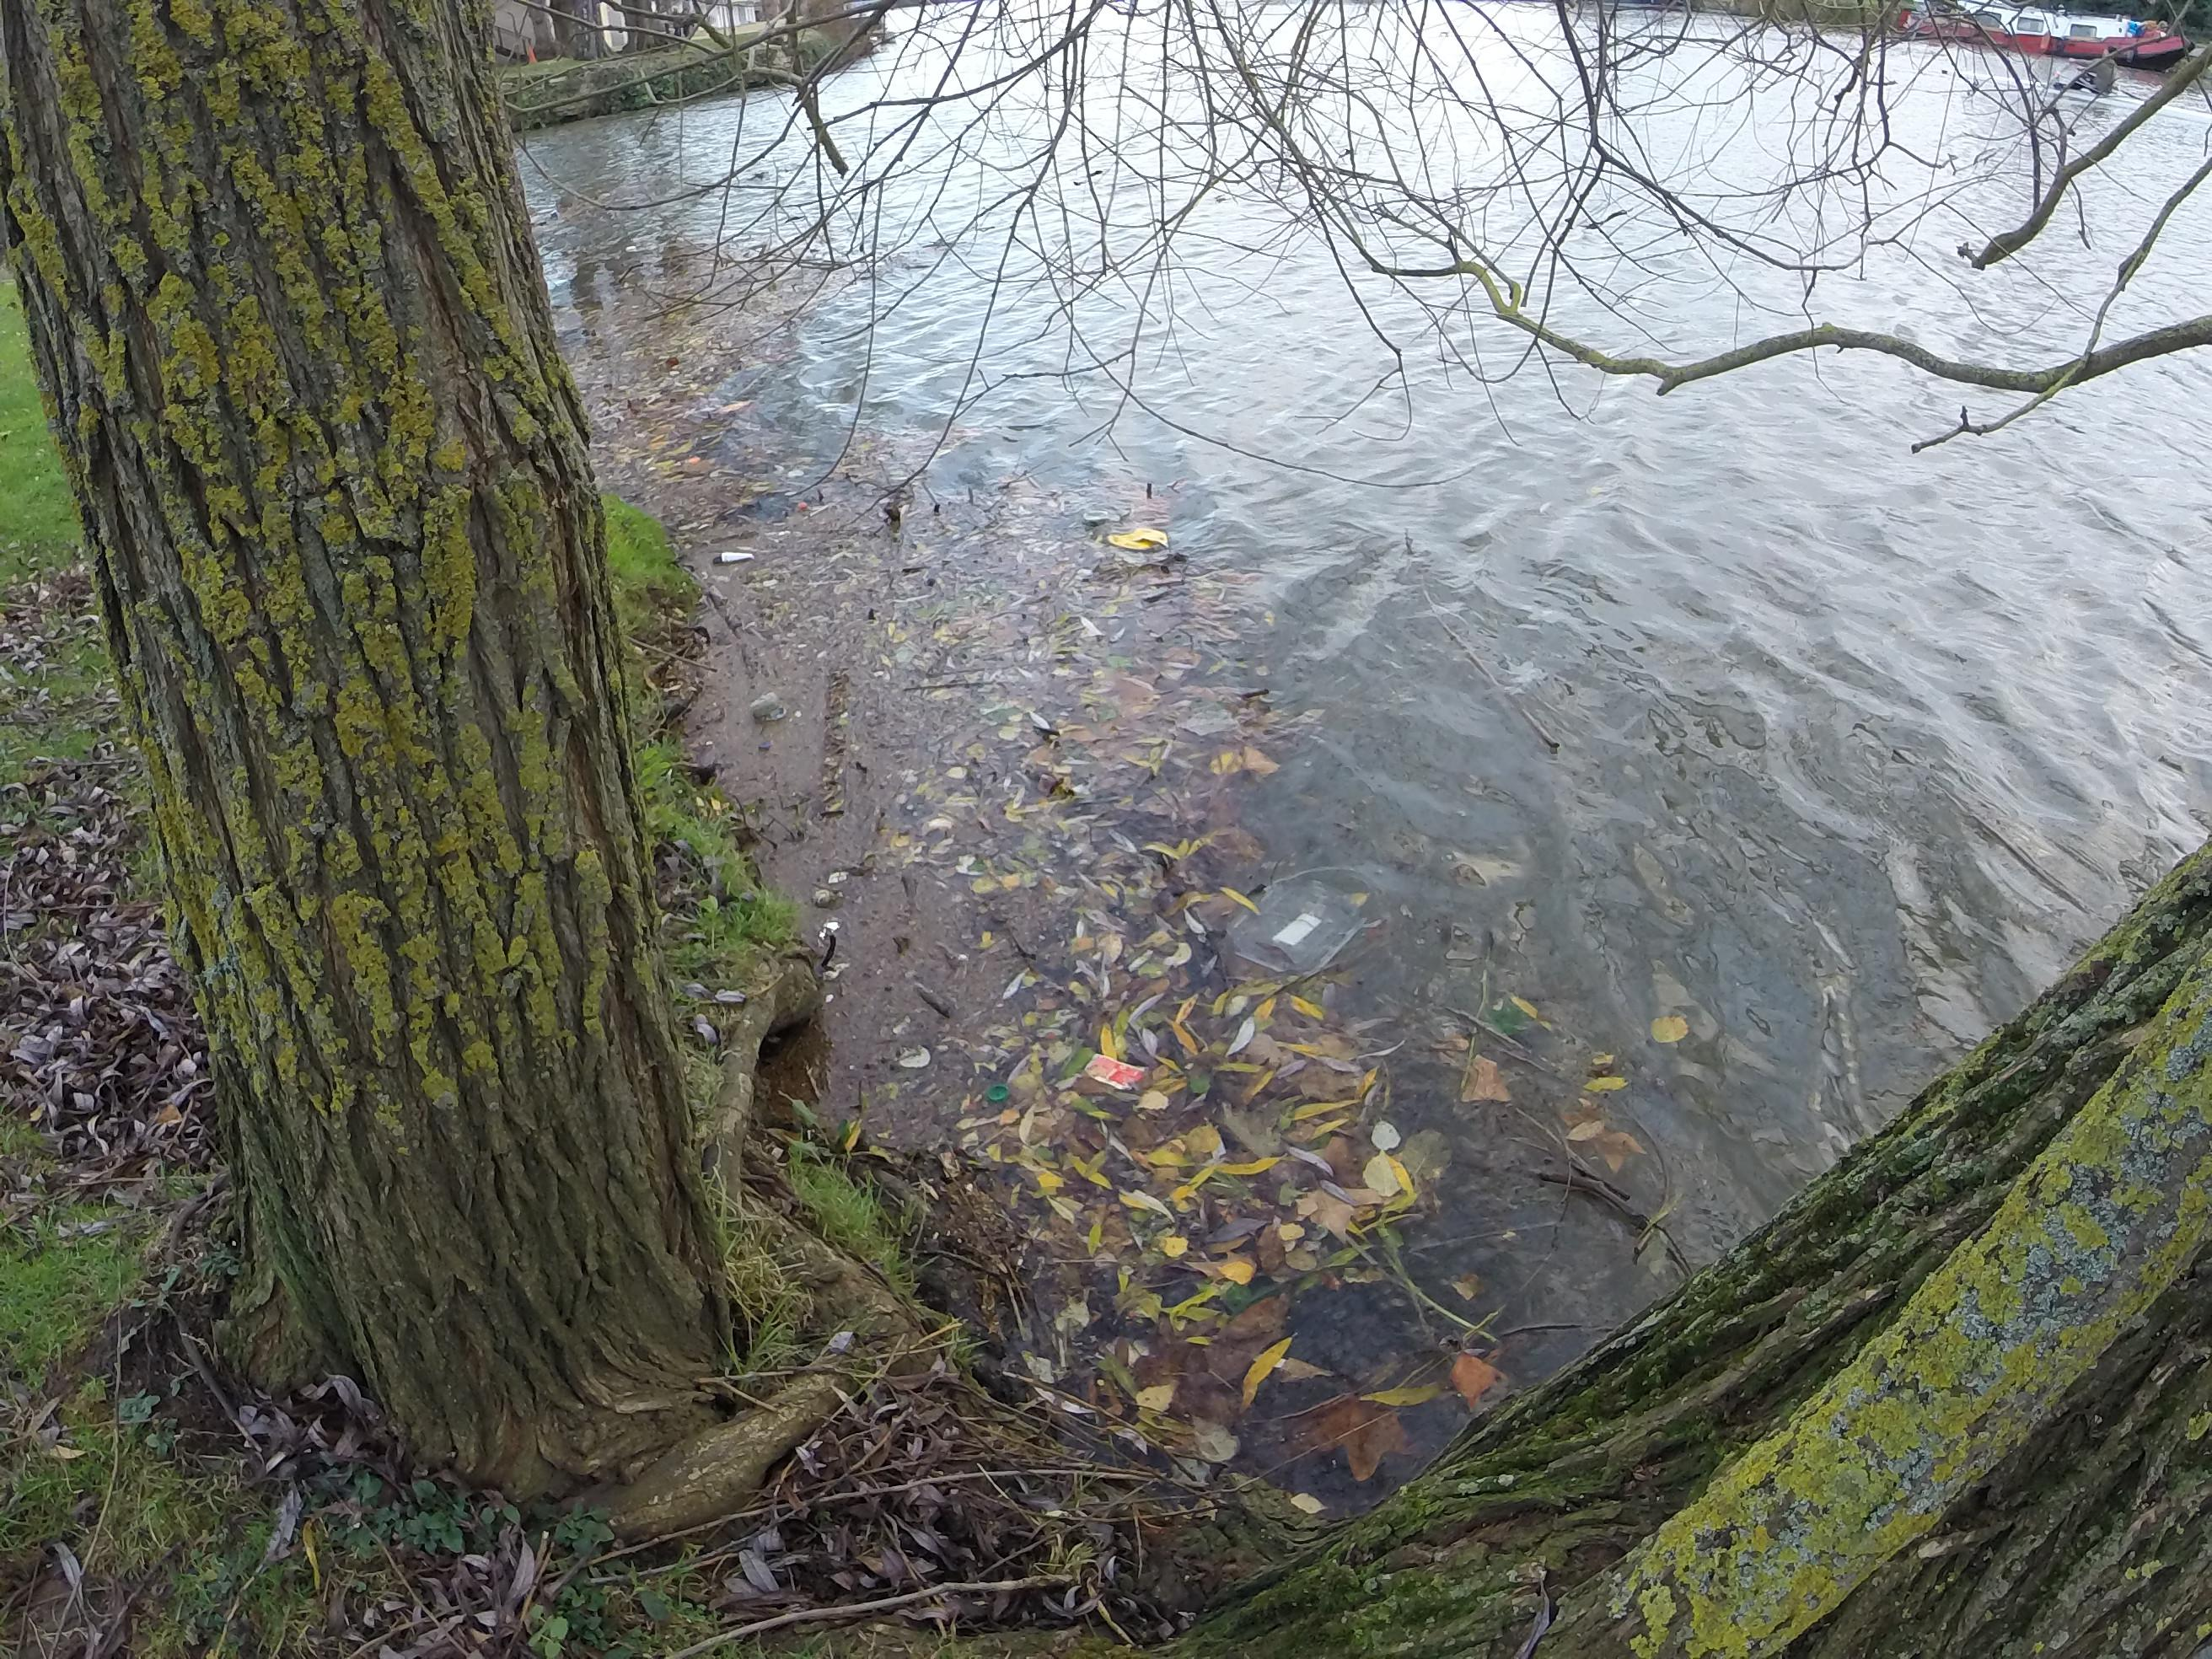Trash: (1223, 864, 1364, 979)
